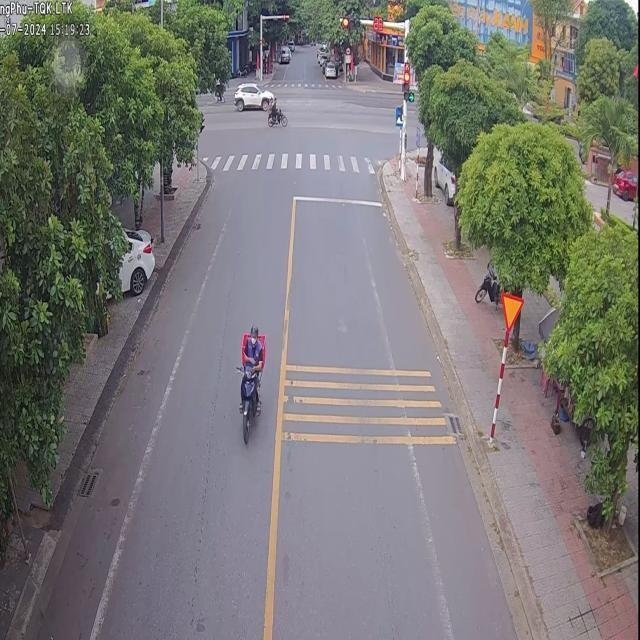car: (117, 227, 153, 293), (232, 81, 272, 109), (322, 59, 336, 77)
motobike: (236, 324, 263, 441), (266, 96, 286, 125)
red_light: (341, 16, 362, 27), (403, 61, 408, 98), (373, 15, 381, 31)
stop_line: (292, 195, 380, 204)
